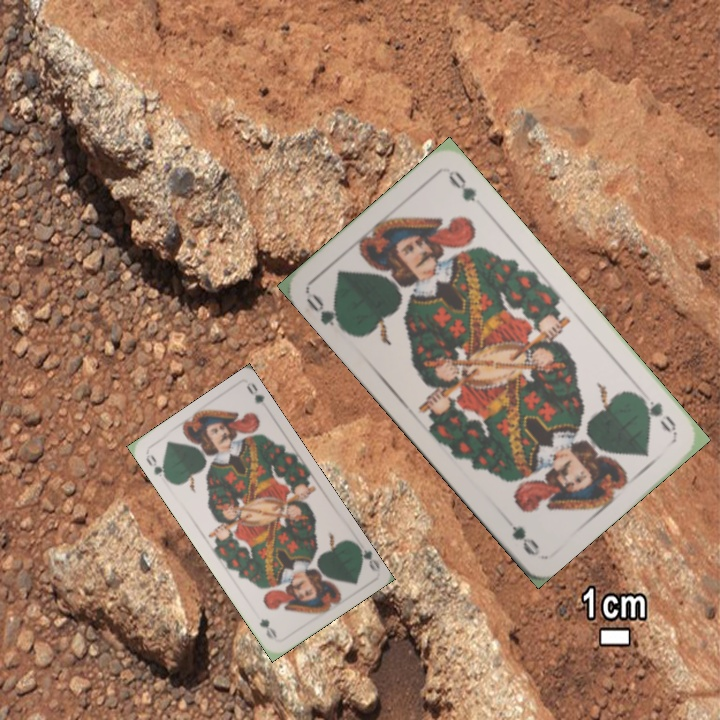GO: (302, 289, 350, 336), (633, 390, 679, 437), (350, 538, 381, 574), (142, 450, 172, 484)
